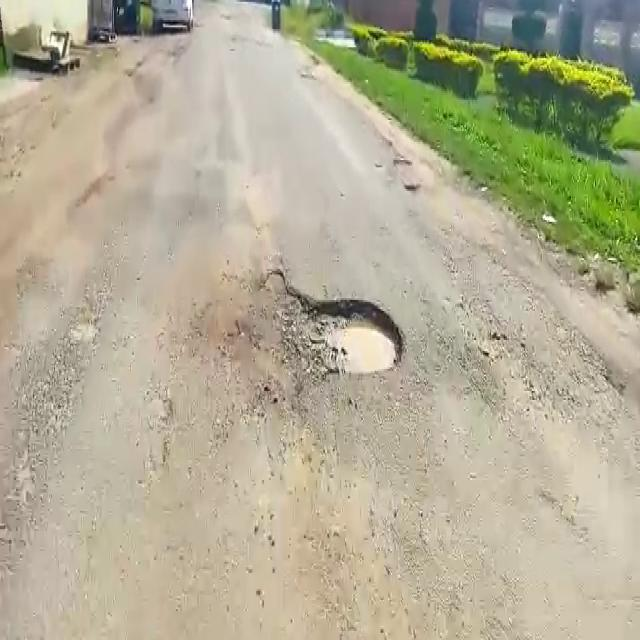Pothole: (243, 266, 412, 390)
